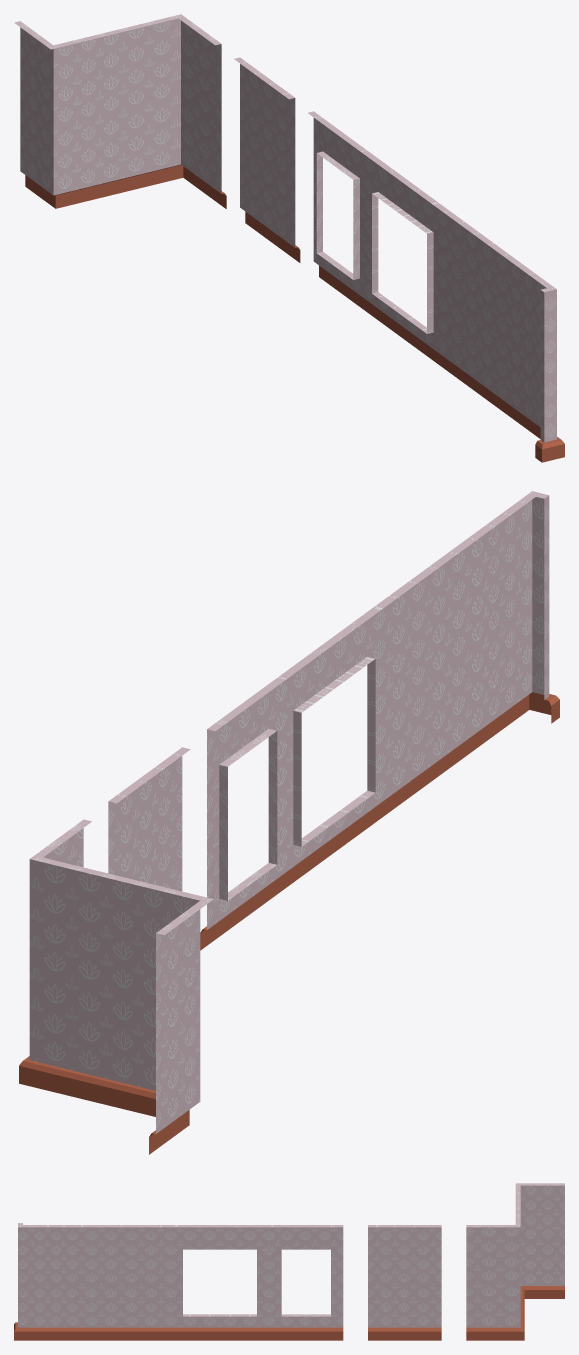
Rendered from Flower_walls_inside.fbx.
The picture shows the model from 3 angles, top to bottom: view 1: azimuth 30°, elevation 25°; view 2: azimuth 150°, elevation 25°; view 3: azimuth 270°, elevation 25°; orthographic projection. The views are drawn at different scales.
Parts seen in each view (by area): view 1: Wall_Inside_outerCorner, Wall_Inside_innerCorner, Wall_Inside_2meters, Wall_Inside_1.5meter, Wall_Inside_BigWindow, Wall_Inside_smallWindow, Wall_Inside_1meter, Wall_Inside_End; view 2: Wall_Inside_outerCorner, Wall_Inside_2meters, Wall_Inside_innerCorner, Wall_Inside_BigWindow, Wall_Inside_smallWindow, Wall_Inside_1meter, Wall_Inside_1.5meter, Wall_Inside_End; view 3: Wall_Inside_2meters, Wall_Inside_1.5meter, Wall_Inside_BigWindow, Wall_Inside_outerCorner, Wall_Inside_1meter, Wall_Inside_smallWindow, Wall_Inside_innerCorner, Wall_Inside_End.
Boxes of the visible parts, x1=… form: Wall_Inside_outerCorner: x1=108, y1=14, x2=226, y2=208; Wall_Inside_innerCorner: x1=14, y1=21, x2=113, y2=208; Wall_Inside_2meters: x1=436, y1=205, x2=521, y2=424; Wall_Inside_1.5meter: x1=234, y1=57, x2=300, y2=262; Wall_Inside_BigWindow: x1=363, y1=152, x2=447, y2=370; Wall_Inside_smallWindow: x1=308, y1=111, x2=373, y2=316; Wall_Inside_1meter: x1=510, y1=259, x2=552, y2=438; Wall_Inside_End: x1=535, y1=286, x2=564, y2=462; Wall_Inside_outerCorner: x1=19, y1=819, x2=127, y2=1107; Wall_Inside_2meters: x1=372, y1=531, x2=485, y2=824; Wall_Inside_innerCorner: x1=119, y1=878, x2=213, y2=1154; Wall_Inside_BigWindow: x1=274, y1=603, x2=387, y2=896; Wall_Inside_smallWindow: x1=200, y1=675, x2=288, y2=950; Wall_Inside_1meter: x1=471, y1=494, x2=535, y2=751; Wall_Inside_1.5meter: x1=108, y1=747, x2=190, y2=891; Wall_Inside_End: x1=520, y1=491, x2=559, y2=723; Wall_Inside_2meters: x1=72, y1=1225, x2=170, y2=1340; Wall_Inside_1.5meter: x1=368, y1=1225, x2=441, y2=1340; Wall_Inside_BigWindow: x1=170, y1=1225, x2=269, y2=1340; Wall_Inside_outerCorner: x1=466, y1=1204, x2=524, y2=1340; Wall_Inside_1meter: x1=23, y1=1225, x2=71, y2=1340; Wall_Inside_smallWindow: x1=269, y1=1225, x2=343, y2=1340; Wall_Inside_innerCorner: x1=515, y1=1183, x2=564, y2=1306; Wall_Inside_End: x1=14, y1=1223, x2=22, y2=1340.
Size of the model in its own units: 218 by 250 by 1118.
